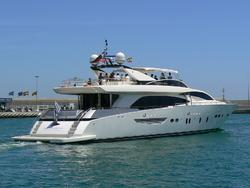yacht: (14, 40, 239, 145)
